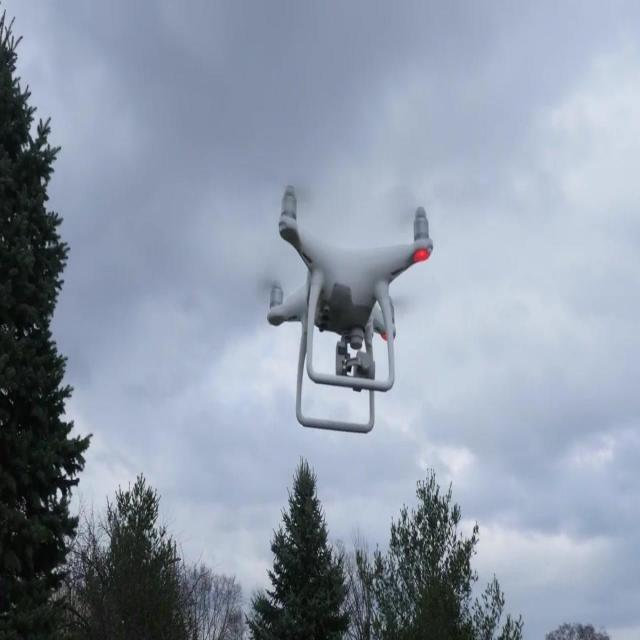UAV: (264, 178, 437, 436)
